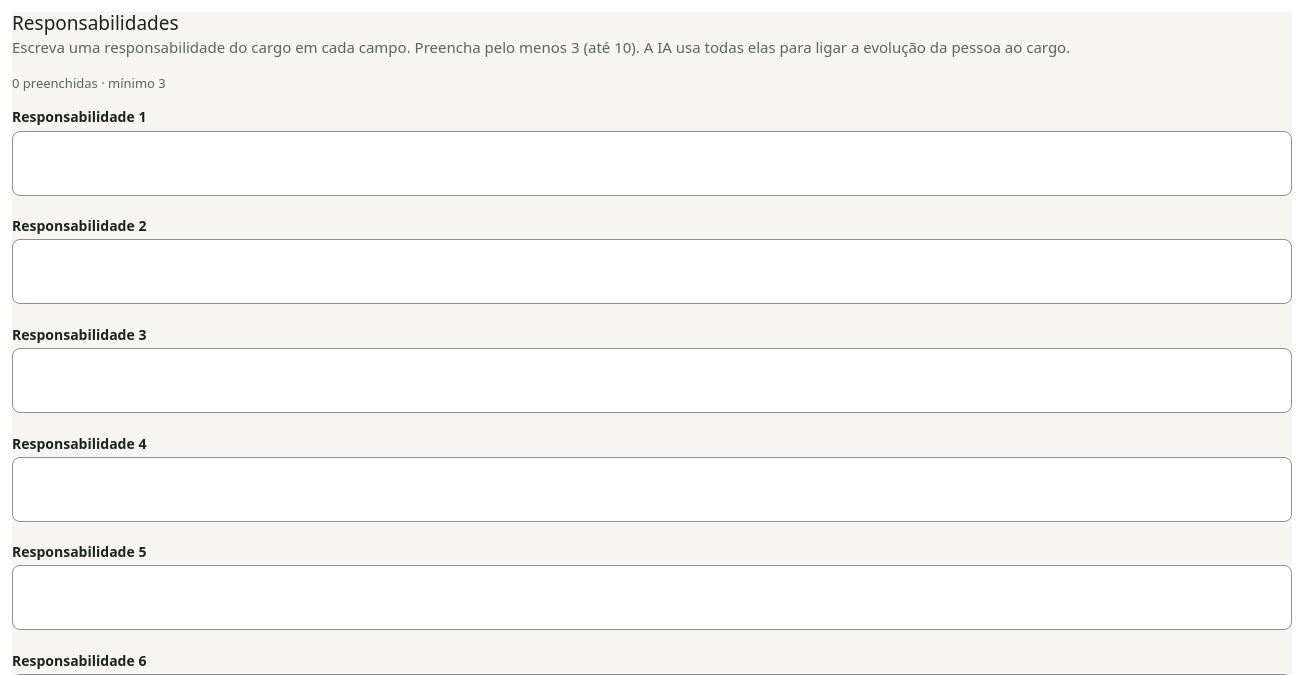
Test: ResponsibilityFields › deve contar as preenchidas e lembrar do mínimo de 3
Expected: the message reads "0 preenchidas · mínimo 3", [12, 74, 166, 92]
Type "Atender os clientes" into the text box labelled "Responsabilidade 1" at (652, 163), box [12, 131, 1292, 196]
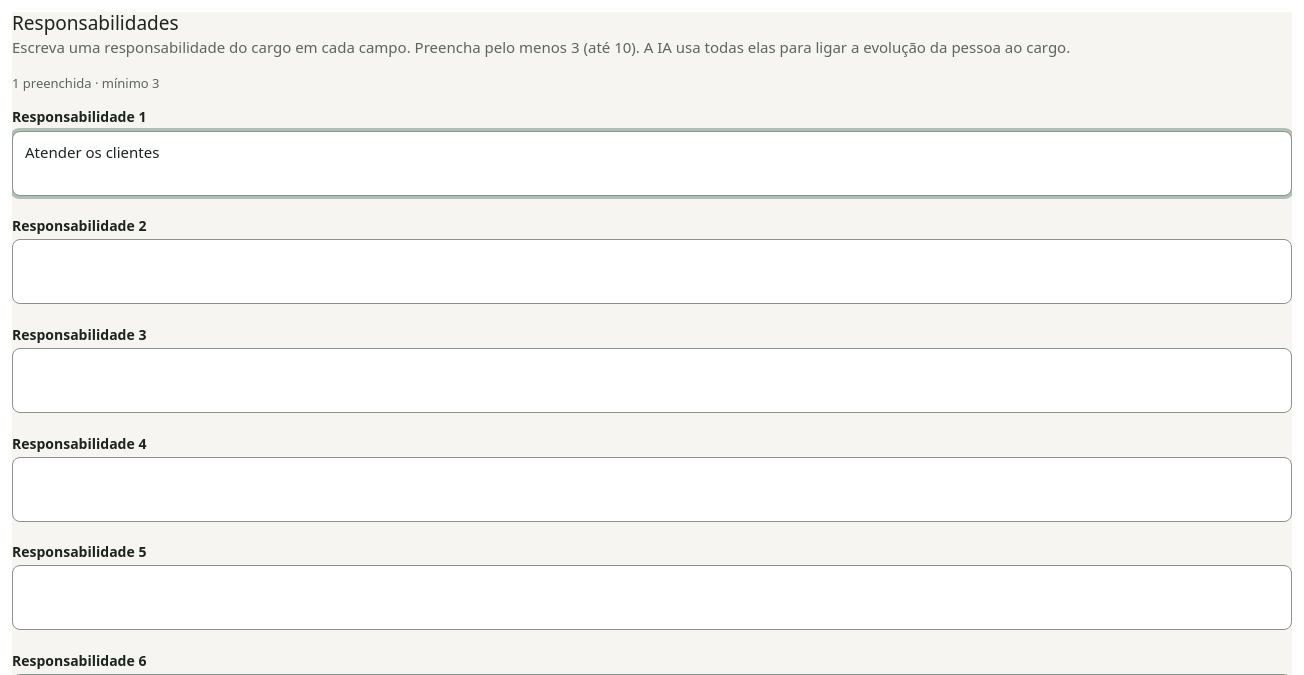
Expected: the message reads "1 preenchida · mínimo 3", [12, 74, 160, 92]
Type "Registrar no CRM" into the text box labelled "Responsabilidade 4" at (652, 489), box [12, 457, 1292, 522]
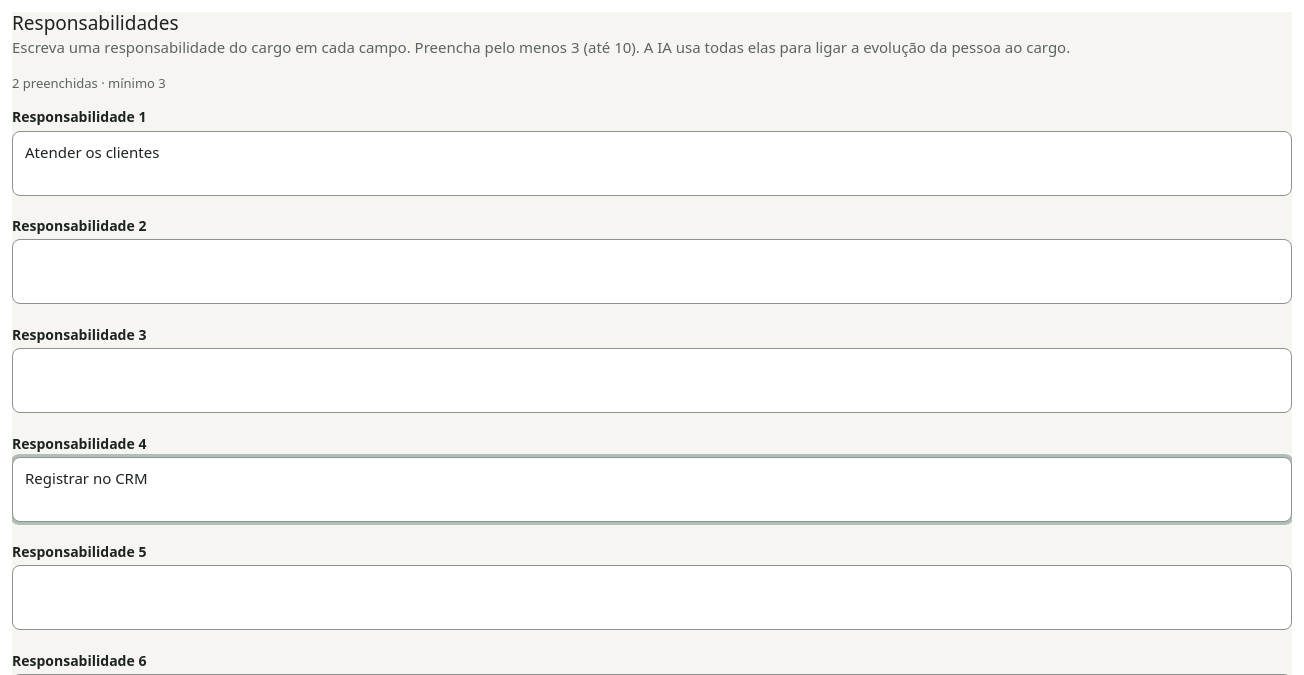
Expected: the message reads "2 preenchidas · mínimo 3", [12, 74, 166, 92]
